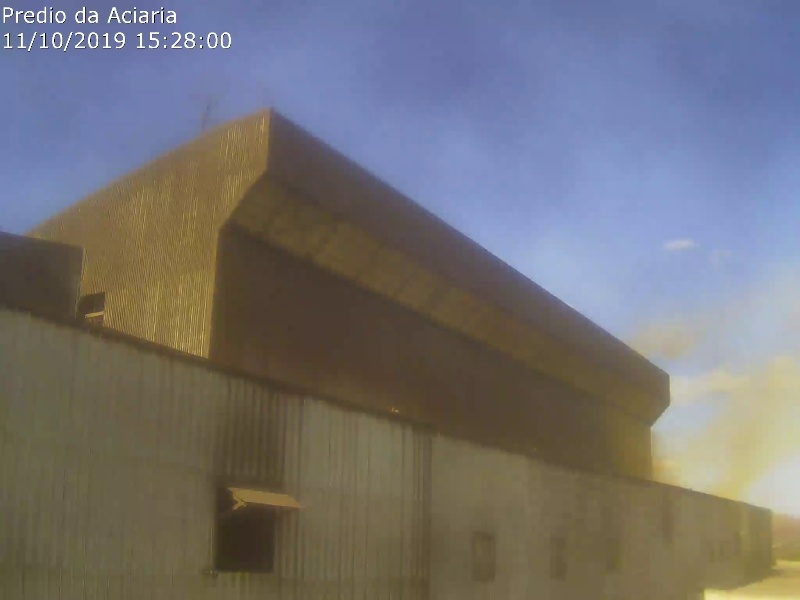bom: (11, 10, 575, 407), (118, 21, 428, 268)
ruim: (611, 305, 800, 489)
